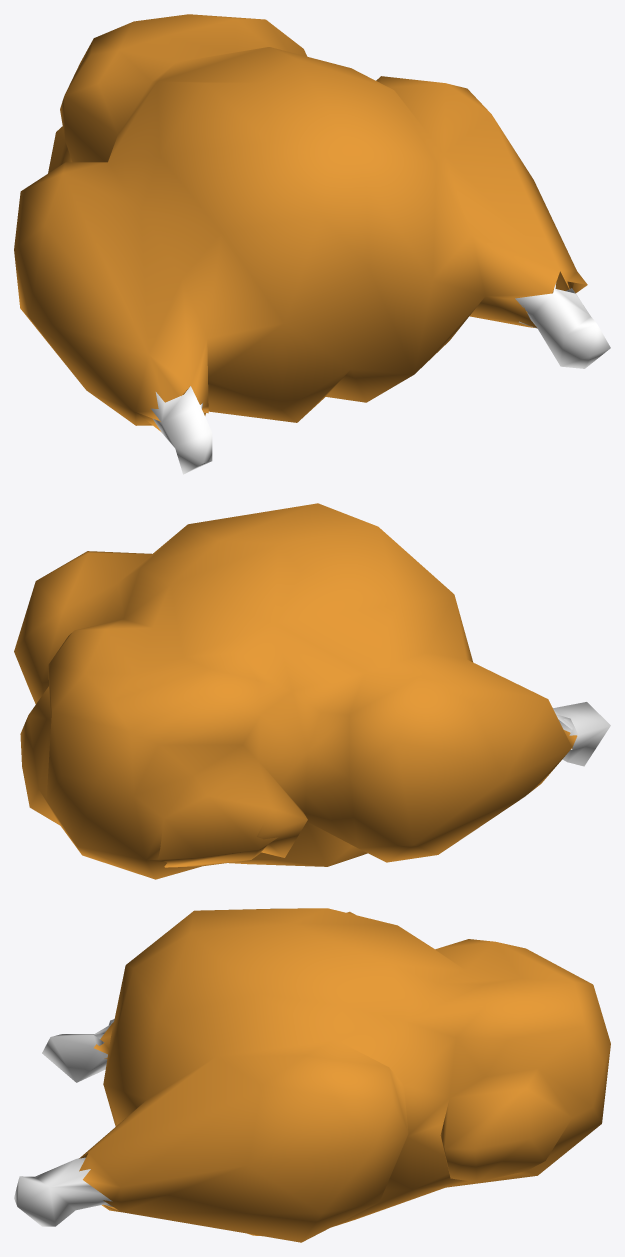
Rendered from Chicken.fbx.
The picture shows the model from 3 angles, top to bottom: view 1: azimuth 30°, elevation 25°; view 2: azimuth 150°, elevation 25°; view 3: azimuth 270°, elevation 25°; orthographic projection. The views are drawn at different scales.
Visible parts, largest first — view 1: Chicken; view 2: Chicken; view 3: Chicken.
Part boxes in pixels (box(x1,y1,x2,y2)): Chicken: box(14, 14, 610, 474); Chicken: box(14, 503, 610, 879); Chicken: box(14, 908, 610, 1242).
Size of the model in its own units: 475 by 295 by 551.
